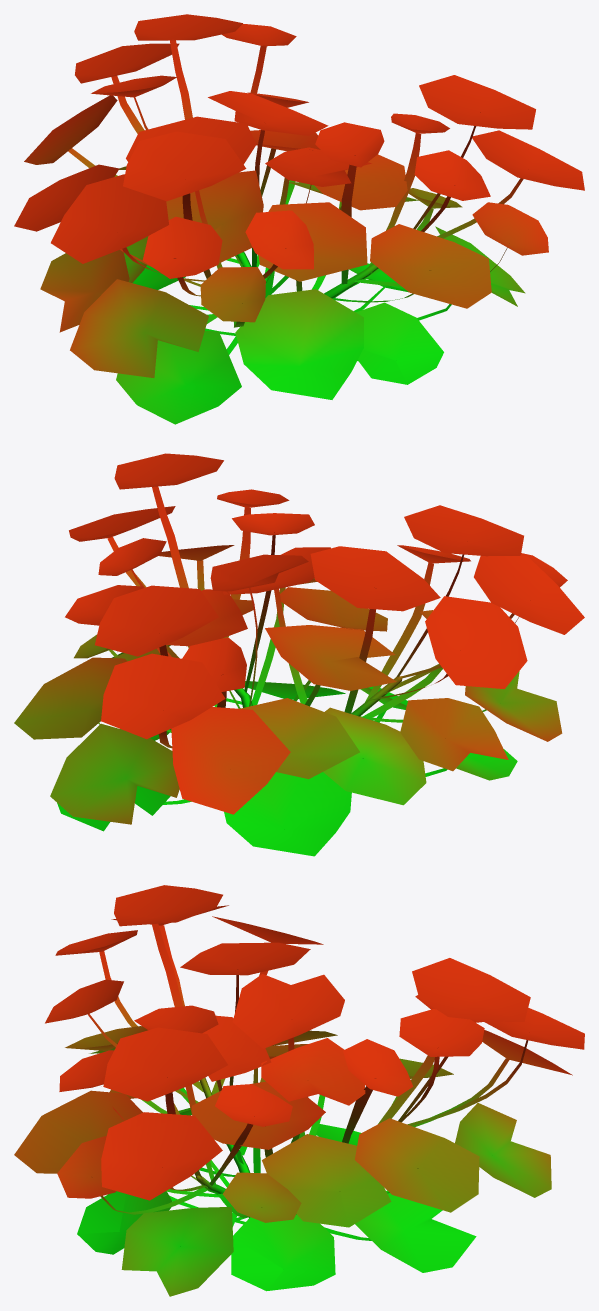
File: Var10_LOD0.fbx
3 views of the same model, one above another, from view 1: azimuth 30°, elevation 25°; view 2: azimuth 150°, elevation 25°; view 3: azimuth 270°, elevation 25° (orthographic).
Visible parts, largest first — view 1: _6eb6_Var10_LOD0; view 2: _6eb6_Var10_LOD0; view 3: _6eb6_Var10_LOD0.
Part boxes in pixels (<box>): _6eb6_Var10_LOD0: <box>14,14,584,424</box>; _6eb6_Var10_LOD0: <box>14,453,584,856</box>; _6eb6_Var10_LOD0: <box>14,885,584,1296</box>.
Size of the model in its own units: 45.8 by 22.72 by 43.8.
